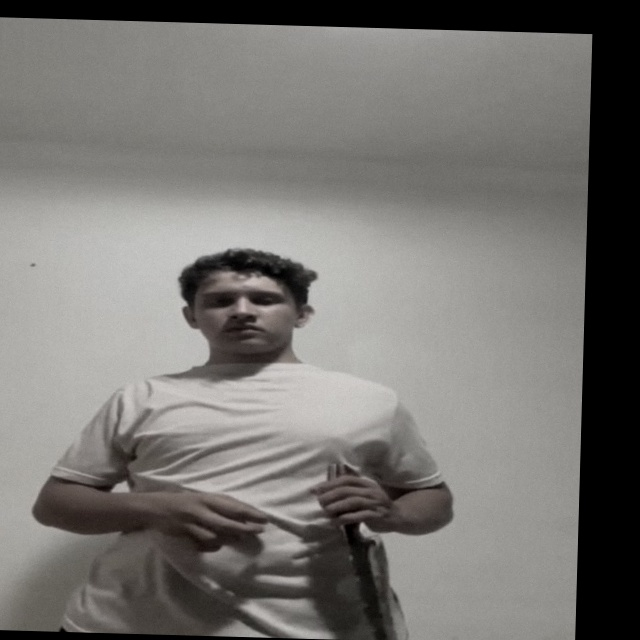Sharp-Object: (343, 533, 403, 640)
